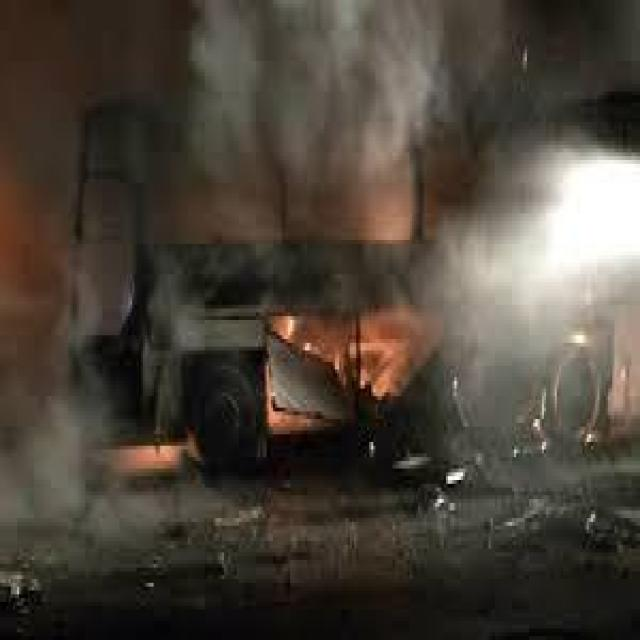fire: (218, 269, 448, 446)
smoke: (26, 0, 557, 177)
